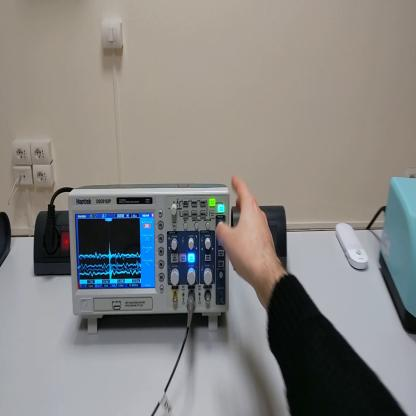hand: (217, 174, 278, 286)
oscilloscope: (69, 184, 232, 336)
socket: (35, 213, 70, 278), (2, 210, 13, 266)
welder station: (377, 179, 416, 335)
